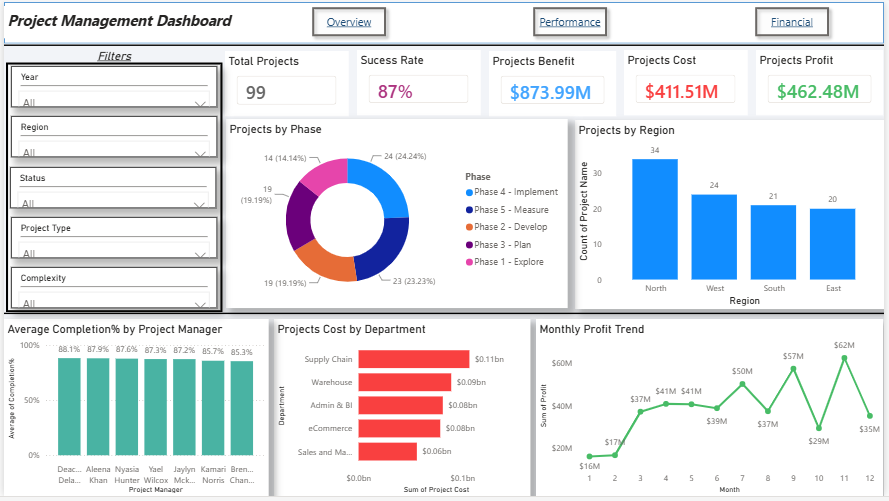

This screenshot's page, from the dashboard's own definition file:
{"tool":"powerbi","page":{"name":"Executive Overview","canvas":[1280,720],"ordinal":0},"visuals":[{"type":"cardVisual","title":"Projects Profit","fields":{"Data":["Sum(Project Management Dataset.Profit)"]},"box":[1093.7,71.4,185.2,94.7],"z":0},{"type":"columnChart","title":"Projects by Region","fields":{"Category":["Project Management Dataset.Region"],"Y":["CountNonNull(Project Management Dataset.Project Name)"]},"box":[830,173.7,450,275.1],"z":1000},{"type":"shape","box":[0,1.2,1280,60.3],"z":2000},{"type":"textbox","box":[0,7.2,355.9,47.1],"z":3000},{"type":"actionButton","box":[761.3,0,125.5,60.3],"z":4000},{"type":"actionButton","box":[1083.4,0,125.5,60.3],"z":5000},{"type":"cardVisual","title":"Projects Benefit ","fields":{"Data":["Sum(Project Management Dataset. Project Benefit )"]},"box":[705.1,72.7,185.2,94.7],"z":6000},{"type":"cardVisual","title":"Projects Cost ","fields":{"Data":["Sum(Project Management Dataset. Project Cost )"]},"box":[902.1,71.4,179.8,94.7],"z":7000},{"type":"cardVisual","title":"Total Projects","fields":{"Data":["Count(Project Management Dataset.Project Name)"]},"box":[322.1,72.4,179.8,95.3],"z":8000},{"type":"actionButton","box":[439.1,0,125.5,60.3],"z":9000},{"type":"cardVisual","title":"Sucess Rate","fields":{"Data":["Avg(Project Management Dataset.Completion%)"]},"box":[513.6,71.4,179.8,94.7],"z":10000},{"type":"donutChart","title":"Projects by Phase","fields":{"Category":["Project Management Dataset.Phase"],"Y":["CountNonNull(Project Management Dataset.Project Name)"]},"box":[323.3,171.3,497.1,275.1],"z":11000},{"type":"barChart","title":"Projects Cost  by Department","fields":{"Category":["Project Management Dataset.Department"],"Y":["Sum(Project Management Dataset. Project Cost )"]},"box":[393.3,462.1,372.8,258.2],"z":12000},{"type":"shape","box":[0,56,1280,18.1],"z":13000},{"type":"shape","box":[0,446.4,1280,15.7],"z":14000},{"type":"lineChart","title":"Monthly Profit Trend","fields":{"Category":["Project Management Dataset.Month"],"Y":["Sum(Project Management Dataset.Profit)"]},"box":[774.5,462.1,505.5,258.2],"z":15000},{"type":"clusteredColumnChart","title":"Average Completion% by Project Manager","fields":{"Category":["Project Management Dataset.Project Manager"],"Y":["Avg(Project Management Dataset.Completion%)"]},"box":[0,462.1,384.9,258.2],"z":16000},{"type":"shape","title":"Filters","box":[3.6,65.1,314.9,387.3],"z":17000},{"type":"slicer","fields":{"Values":["Project Management Dataset.Year"]},"box":[10.4,94.3,300.4,60],"z":18000},{"type":"slicer","fields":{"Values":["Project Management Dataset.Region"]},"box":[10.4,167.6,300.4,60],"z":19000},{"type":"slicer","fields":{"Values":["Project Management Dataset.Status"]},"box":[9.2,240.9,300.4,60],"z":20000},{"type":"slicer","fields":{"Values":["Project Management Dataset.Project Type"]},"box":[10.4,314.2,300.4,60],"z":21000},{"type":"slicer","fields":{"Values":["Project Management Dataset.Complexity"]},"box":[10.4,387.5,300.4,60],"z":22000}]}

Visuals, with their boxes in screenshot pixels (x1, y1, x2, y2), scaled from the page's 1280x720 canvas onto the 889x501 screenshot:
"Projects Profit" cardVisual: bbox=[760, 50, 888, 116]
"Projects by Region" columnChart: bbox=[576, 121, 888, 312]
shape: bbox=[0, 1, 888, 43]
textbox: bbox=[0, 5, 247, 38]
actionButton: bbox=[529, 0, 616, 42]
actionButton: bbox=[752, 0, 840, 42]
"Projects Benefit " cardVisual: bbox=[490, 51, 618, 116]
"Projects Cost " cardVisual: bbox=[627, 50, 751, 116]
"Total Projects" cardVisual: bbox=[224, 50, 349, 117]
actionButton: bbox=[305, 0, 392, 42]
"Sucess Rate" cardVisual: bbox=[357, 50, 482, 116]
"Projects by Phase" donutChart: bbox=[225, 119, 570, 311]
"Projects Cost  by Department" barChart: bbox=[273, 322, 532, 500]
shape: bbox=[0, 39, 888, 52]
shape: bbox=[0, 311, 888, 322]
"Monthly Profit Trend" lineChart: bbox=[538, 322, 888, 500]
"Average Completion% by Project Manager" clusteredColumnChart: bbox=[0, 322, 267, 500]
"Filters" shape: bbox=[3, 45, 221, 315]
slicer - Project Management Dataset.Year: bbox=[7, 66, 216, 107]
slicer - Project Management Dataset.Region: bbox=[7, 117, 216, 158]
slicer - Project Management Dataset.Status: bbox=[6, 168, 215, 209]
slicer - Project Management Dataset.Project Type: bbox=[7, 219, 216, 260]
slicer - Project Management Dataset.Complexity: bbox=[7, 270, 216, 311]
